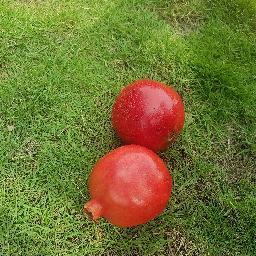Good_pomegranate: (86, 151, 170, 227), (113, 81, 190, 148)
